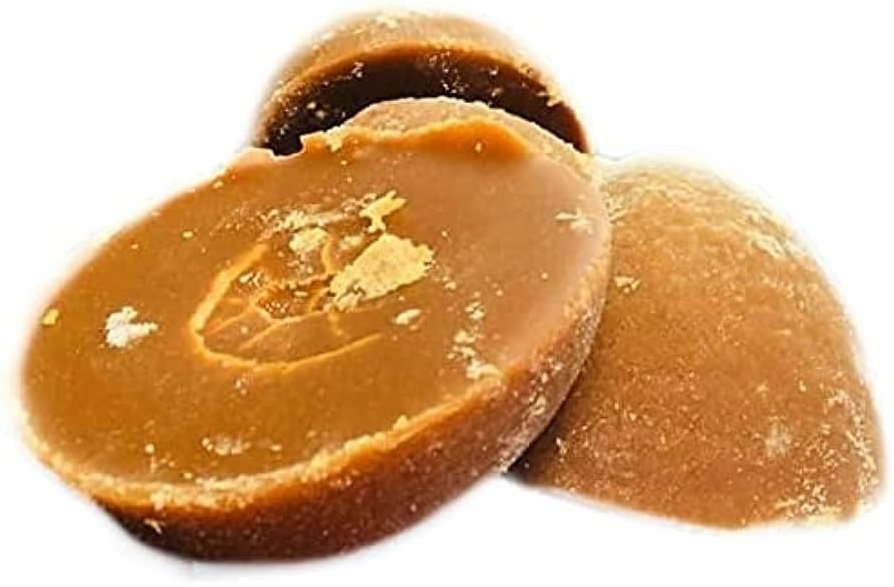hakuru: (10, 96, 617, 568), (511, 150, 887, 532), (235, 3, 591, 155)
